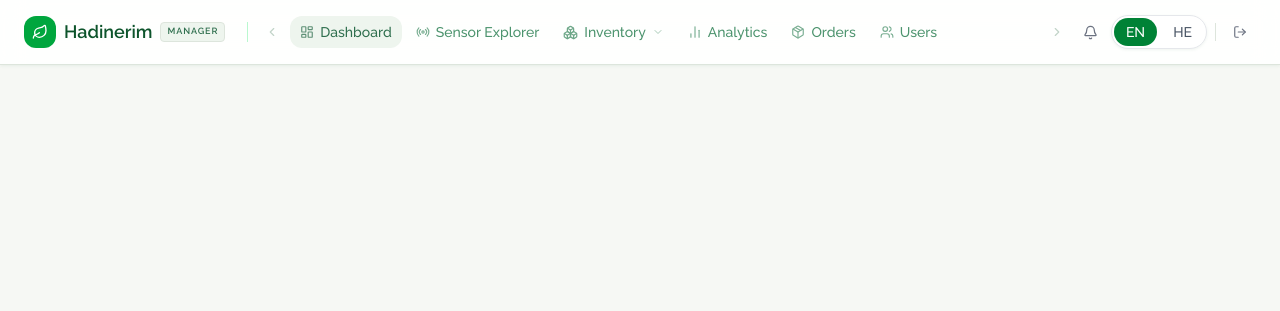
Test: ManagerNavbar — Inventory dropdown › opens the dropdown on click and shows all sub-items
Click the button "Inventory" at (614, 32), box [553, 16, 674, 48]
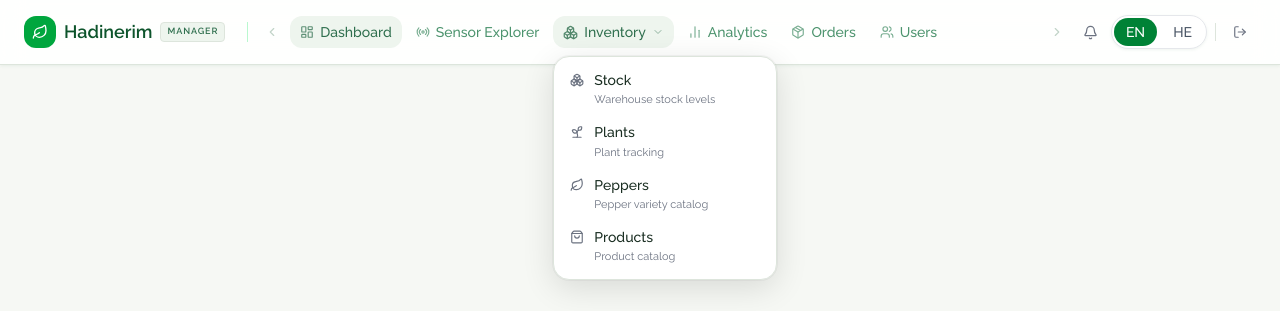
Expected: the text "Stock" is shown, [594, 72, 631, 88]
Expected: the text "Plants" is shown, [594, 124, 635, 140]
Expected: the text "Peppers" is shown, [594, 177, 649, 193]
